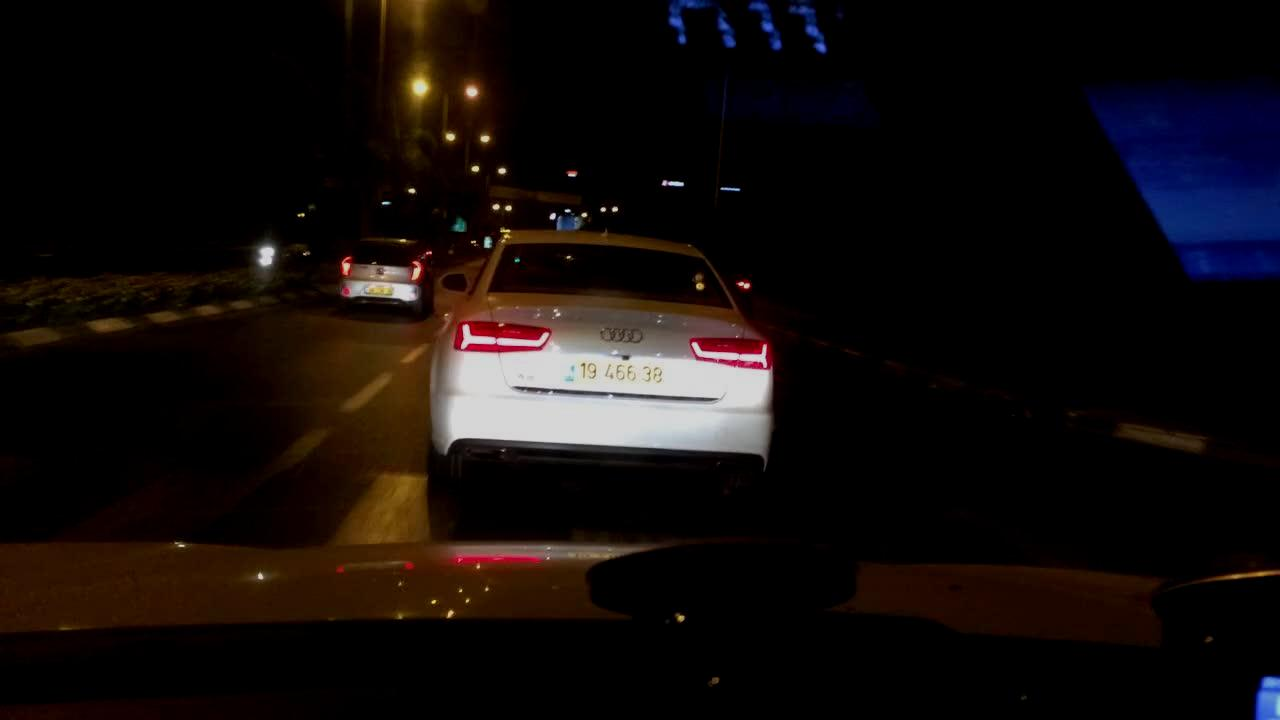Audi: (591, 314, 663, 351)
